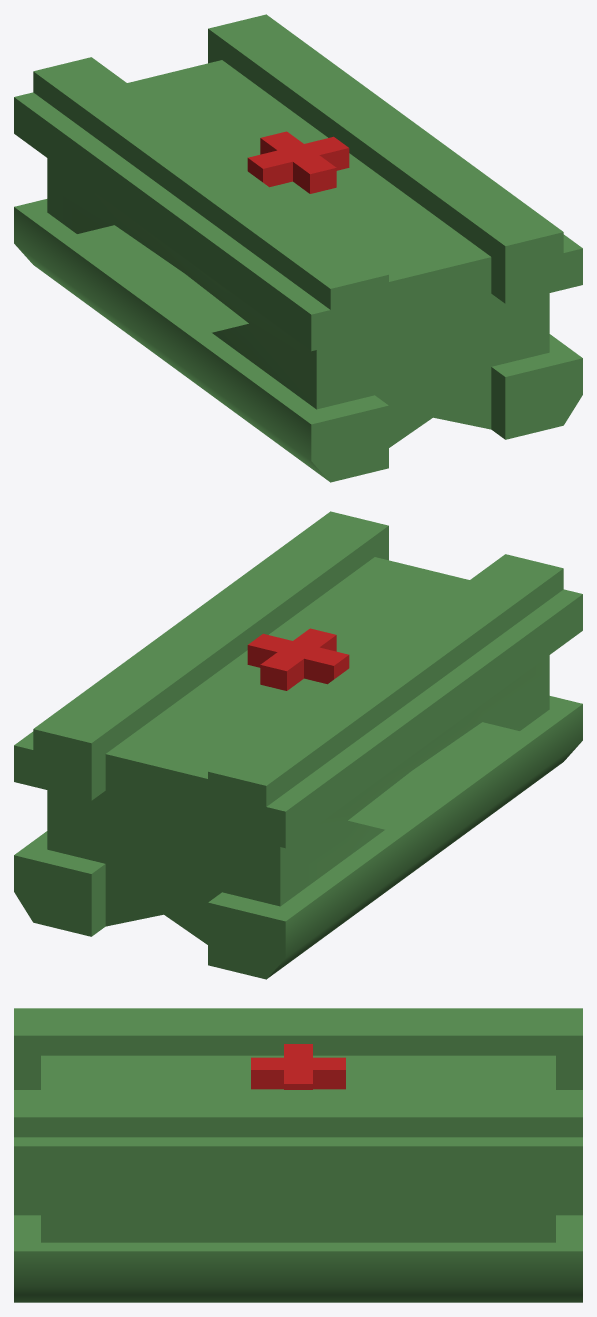
Rendered from Аптечка.fbx.
3 renders of one model, top to bottom at view 1: azimuth 30°, elevation 25°; view 2: azimuth 150°, elevation 25°; view 3: azimuth 270°, elevation 25°, orthographic. The views are drawn at different scales.
Parts seen in each view (by area): view 1: Объект_Куб, Объект_Куб_1, Объект_Куб_2; view 2: Объект_Куб, Объект_Куб_1, Объект_Куб_2; view 3: Объект_Куб, Объект_Куб_2, Объект_Куб_1.
Boxes of the visible parts, x1,y1,x2,y2 form: Объект_Куб: [14, 14, 582, 482]; Объект_Куб_1: [247, 136, 349, 187]; Объект_Куб_2: [260, 131, 336, 193]; Объект_Куб: [14, 511, 582, 979]; Объект_Куб_1: [247, 633, 349, 684]; Объект_Куб_2: [260, 628, 336, 690]; Объект_Куб: [14, 1008, 582, 1302]; Объект_Куб_2: [251, 1057, 345, 1089]; Объект_Куб_1: [284, 1044, 312, 1089].
Bounding box in the file's own units: 126 × 79.35 × 221.
